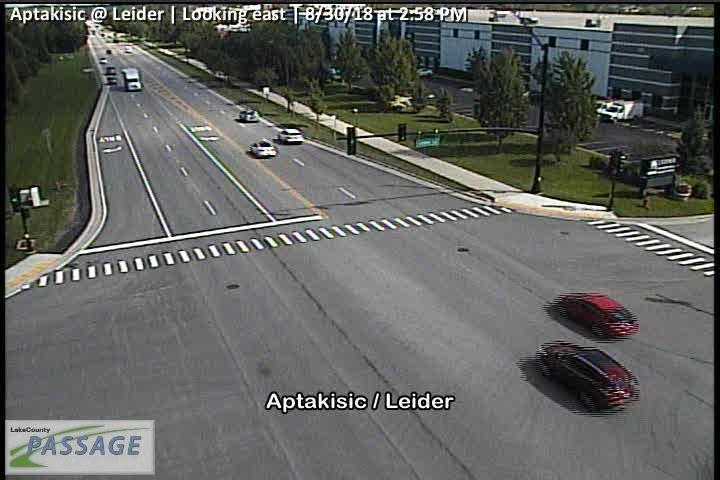SUV: (536, 341, 640, 413)
Sedan: (556, 293, 640, 337), (249, 139, 276, 156), (278, 129, 304, 143), (240, 110, 258, 122), (106, 66, 116, 74), (107, 77, 116, 84), (99, 57, 107, 63)
Truck: (124, 68, 142, 91)
